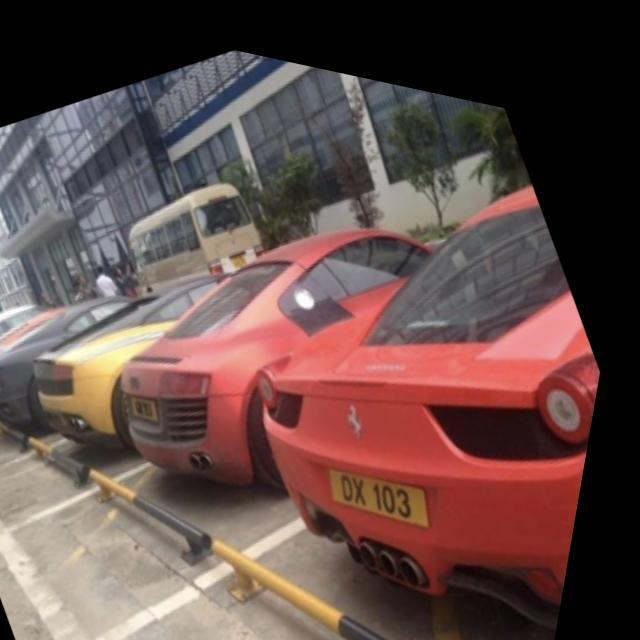license_plate: (330, 410, 455, 537)
